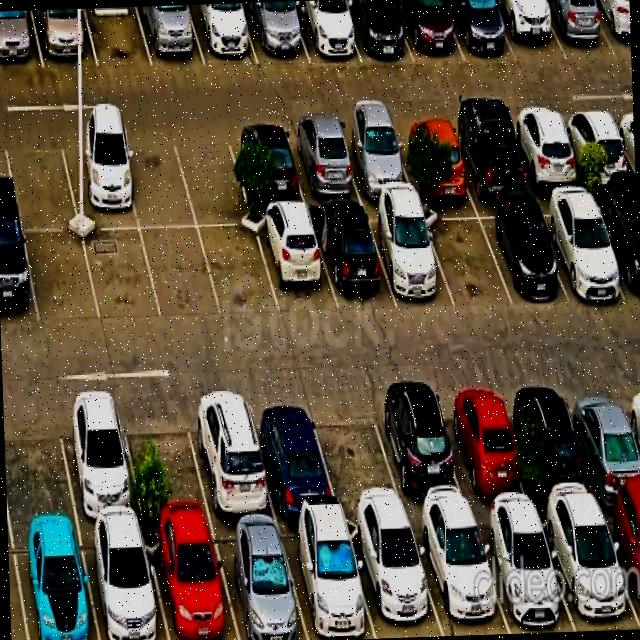empty: (308, 390, 405, 514), (119, 396, 211, 524), (3, 397, 77, 528), (420, 205, 512, 307), (171, 126, 252, 227), (119, 131, 196, 228), (2, 133, 79, 229), (140, 228, 221, 319), (83, 229, 161, 322), (199, 227, 279, 316), (24, 231, 100, 324), (85, 6, 152, 66)
occupied: (369, 386, 472, 515), (537, 505, 640, 631), (473, 511, 575, 634), (436, 382, 532, 511), (409, 513, 509, 636), (184, 389, 276, 521), (278, 518, 375, 640), (345, 518, 443, 638), (246, 393, 339, 517), (210, 523, 308, 640), (54, 396, 143, 524), (510, 380, 599, 508), (143, 524, 238, 640), (79, 525, 168, 640), (11, 527, 98, 640), (534, 194, 627, 299), (564, 379, 640, 504), (475, 202, 567, 304), (365, 206, 454, 307), (253, 209, 337, 316), (310, 206, 396, 309), (59, 132, 139, 229), (447, 115, 531, 197), (227, 125, 306, 207), (392, 118, 472, 196), (284, 123, 362, 203), (336, 121, 415, 199), (508, 111, 584, 190), (559, 109, 635, 185), (590, 193, 640, 302), (600, 501, 640, 629), (492, 0, 567, 63), (540, 0, 617, 60), (341, 0, 413, 62), (395, 0, 465, 63), (187, 3, 258, 65), (290, 0, 361, 62), (445, 0, 516, 61), (137, 4, 205, 66), (242, 1, 308, 63), (31, 8, 98, 68), (0, 227, 38, 326), (0, 10, 43, 69), (591, 0, 631, 57)
